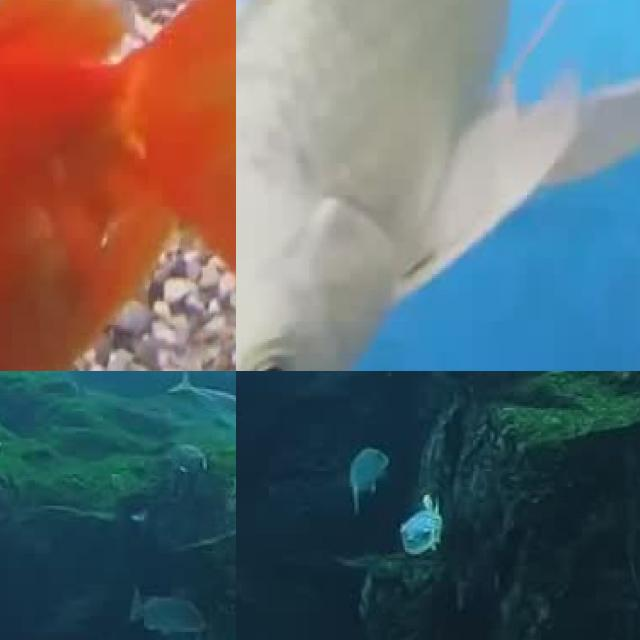fish: (0, 0, 236, 371), (486, 66, 640, 371)
